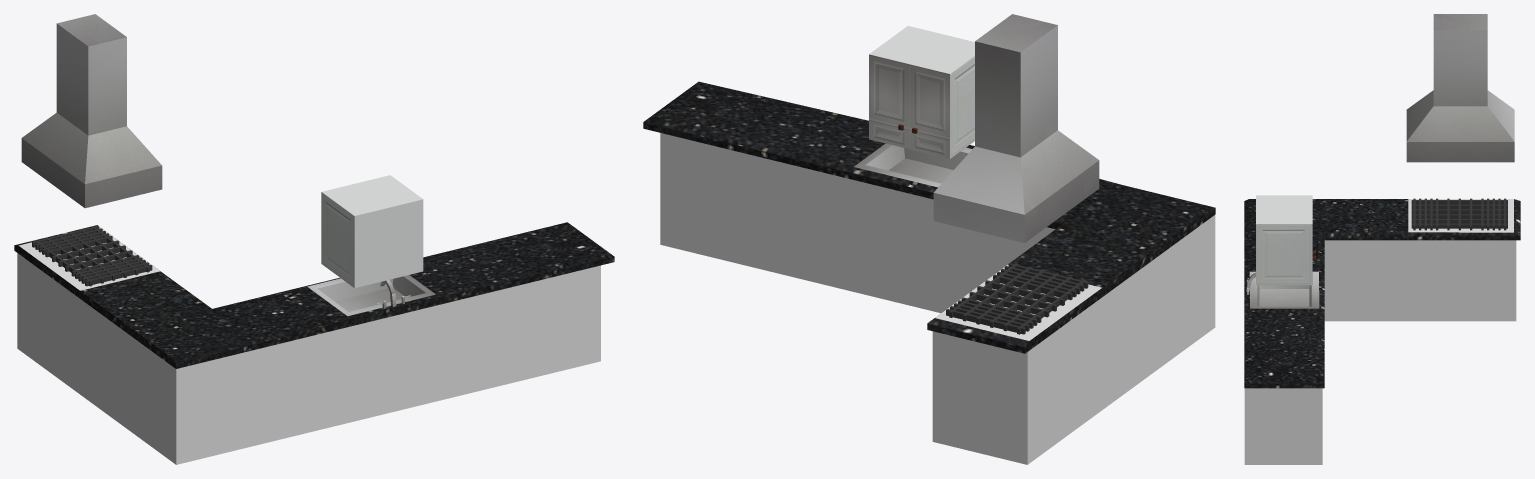
File: KitchenSet.fbx
3 views of the same model, side by side, from view 1: azimuth 30°, elevation 25°; view 2: azimuth 150°, elevation 25°; view 3: azimuth 270°, elevation 25° (orthographic). The views are drawn at different scales.
Parts seen in each view (by area): view 1: pCube2, pCube3, pCube7; view 2: pCube2, pCube3, pCube7; view 3: pCube2, pCube3, pCube7.
Part boxes in pixels (left/top/right/bottom): pCube2: left=14, top=222, right=614, bottom=464; pCube3: left=21, top=14, right=162, bottom=208; pCube7: left=321, top=175, right=423, bottom=287; pCube2: left=643, top=81, right=1215, bottom=464; pCube3: left=933, top=14, right=1099, bottom=242; pCube7: left=869, top=26, right=974, bottom=158; pCube2: left=1244, top=198, right=1520, bottom=464; pCube3: left=1406, top=14, right=1514, bottom=162; pCube7: left=1256, top=195, right=1315, bottom=285.
Size of the model in its own units: 19.09 by 13.81 by 12.2.
